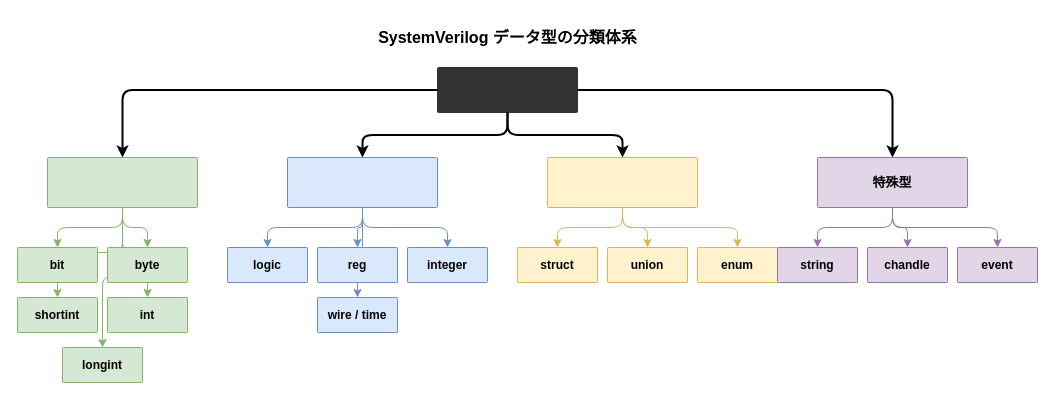
The diagram is 1055 pixels wide and 400 high, and some of its shapes have lost their labels. The shapes that lost their labels are listed below. From the top down, each one's centre as x and y in pixels, then its label:
the point at 507,89: データ型
the point at 122,182: 2 値型 (2-state)
the point at 362,182: 4 値型 (4-state)
the point at 622,182: 複合型
